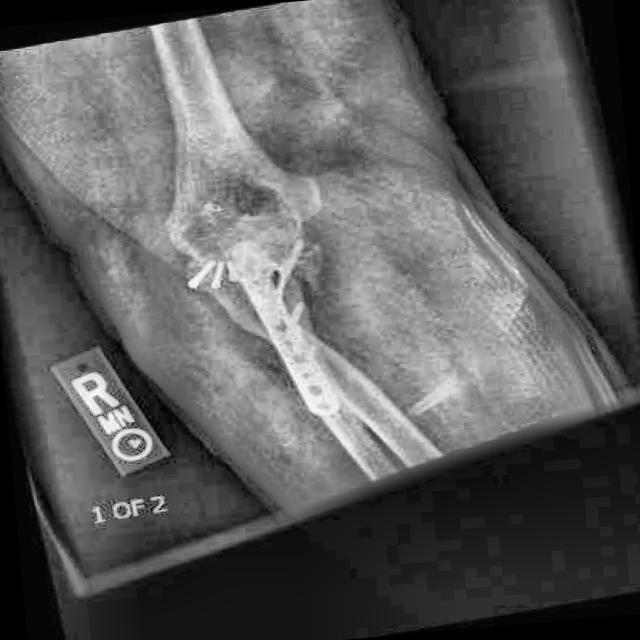elbow positive: (255, 155, 356, 242)
